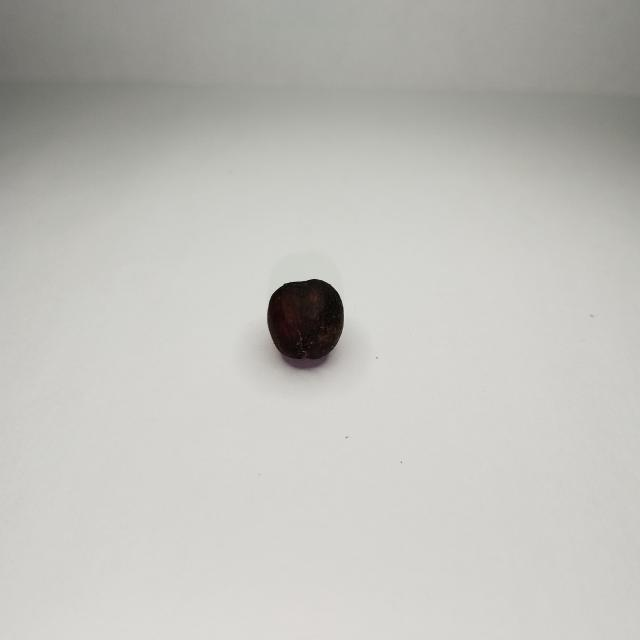Danado: (268, 279, 345, 361)
